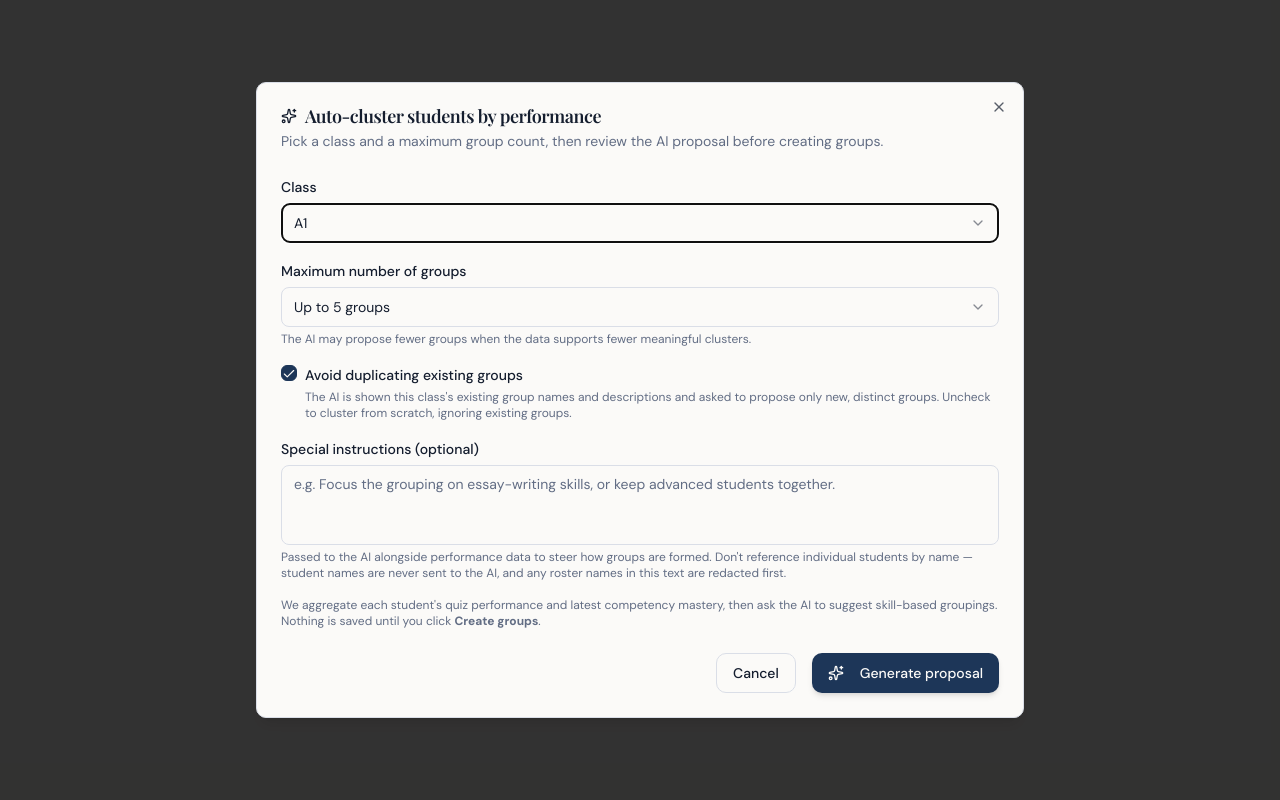
Test: AutoClusterDialog (#873) › renders the AI proposal (groups, members, unassigned) after generating
Click the button "Generate proposal": (905, 673) top-left (812, 653), bottom-right (999, 693)
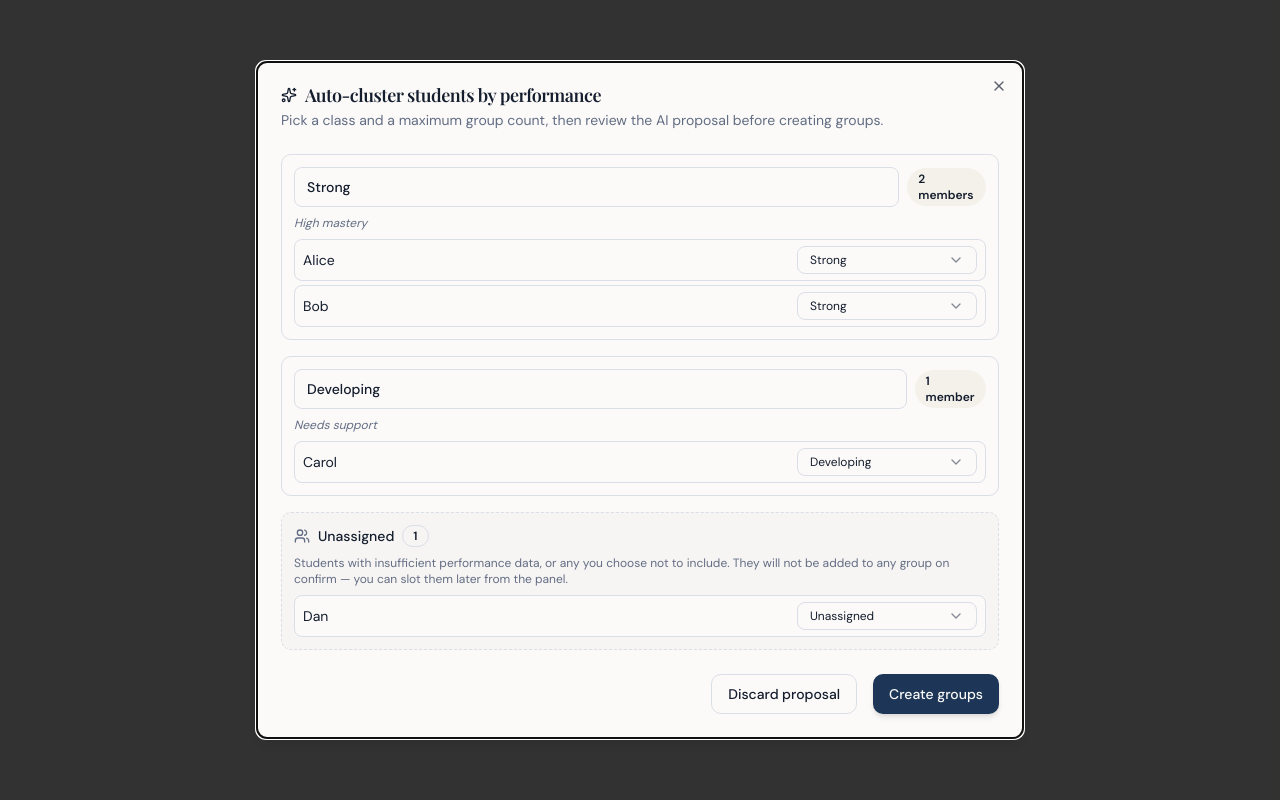
Result: the field showing "Strong" next to "members" is shown at top-left (294, 167), bottom-right (899, 207)
Result: the 2nd field showing "Developing" is shown at top-left (294, 369), bottom-right (907, 409)
Result: the text "Alice" is shown at top-left (303, 251), bottom-right (335, 269)
